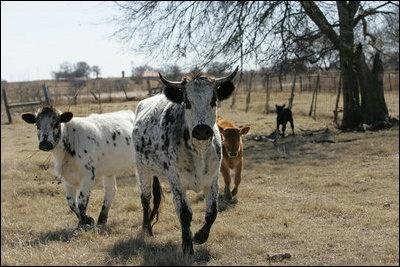cow: (138, 64, 250, 256), (22, 106, 166, 237), (214, 110, 254, 209)
